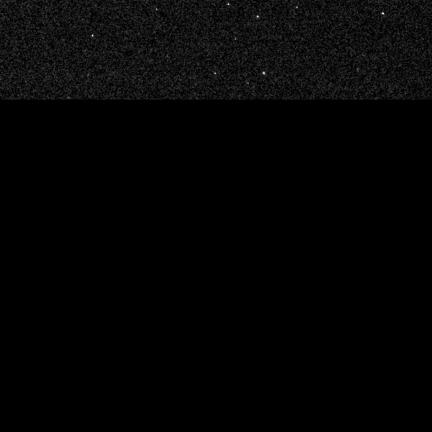blob: (263, 72, 266, 75), (382, 13, 385, 16), (214, 73, 217, 75), (92, 35, 94, 38)
